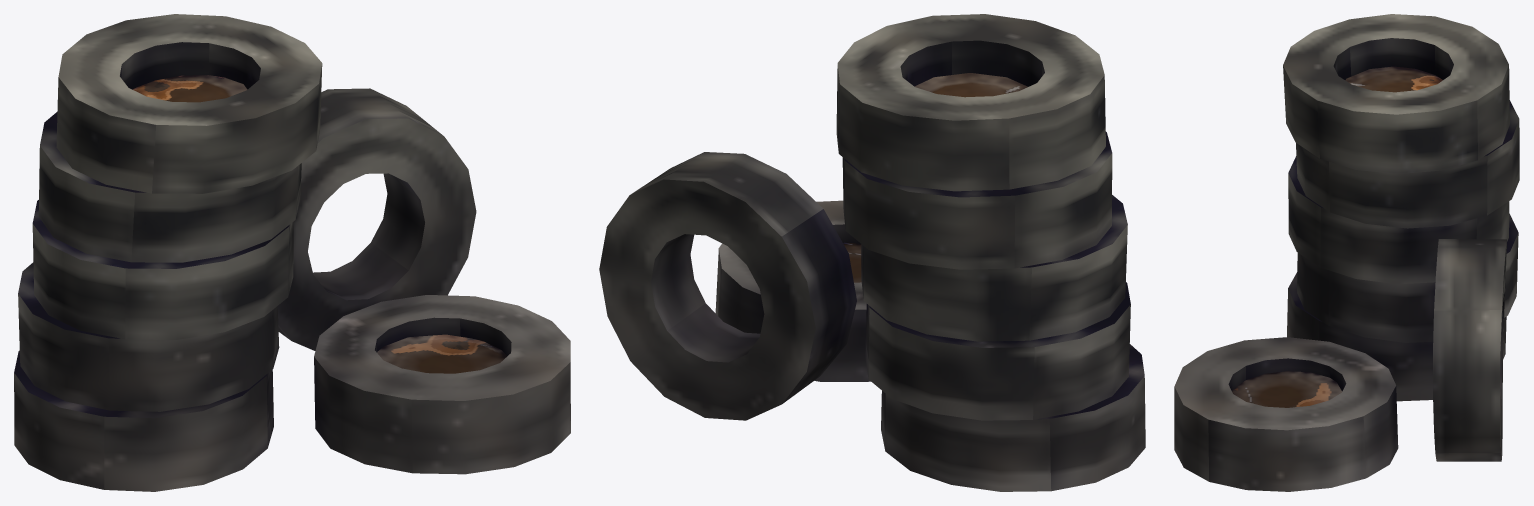
File: TyreStack.glb
The picture shows the model from 3 angles, left to right: view 1: azimuth 30°, elevation 25°; view 2: azimuth 150°, elevation 25°; view 3: azimuth 270°, elevation 25°; orthographic projection. The views are drawn at different scales.
Visible parts, largest first — view 1: Tyres, Rim; view 2: Tyres, Rim; view 3: Tyres, Rim.
Part boxes in pixels (x1,y1,x2,y2): Tyres: (14,14,570,491); Rim: (132,75,507,373); Tyres: (599,14,1145,491); Rim: (843,73,1027,282); Tyres: (1174,14,1519,491); Rim: (1232,66,1442,407).
Bounding box in the file's own units: 2.49 × 1.84 × 1.84.
2 materials, 2 textured.
